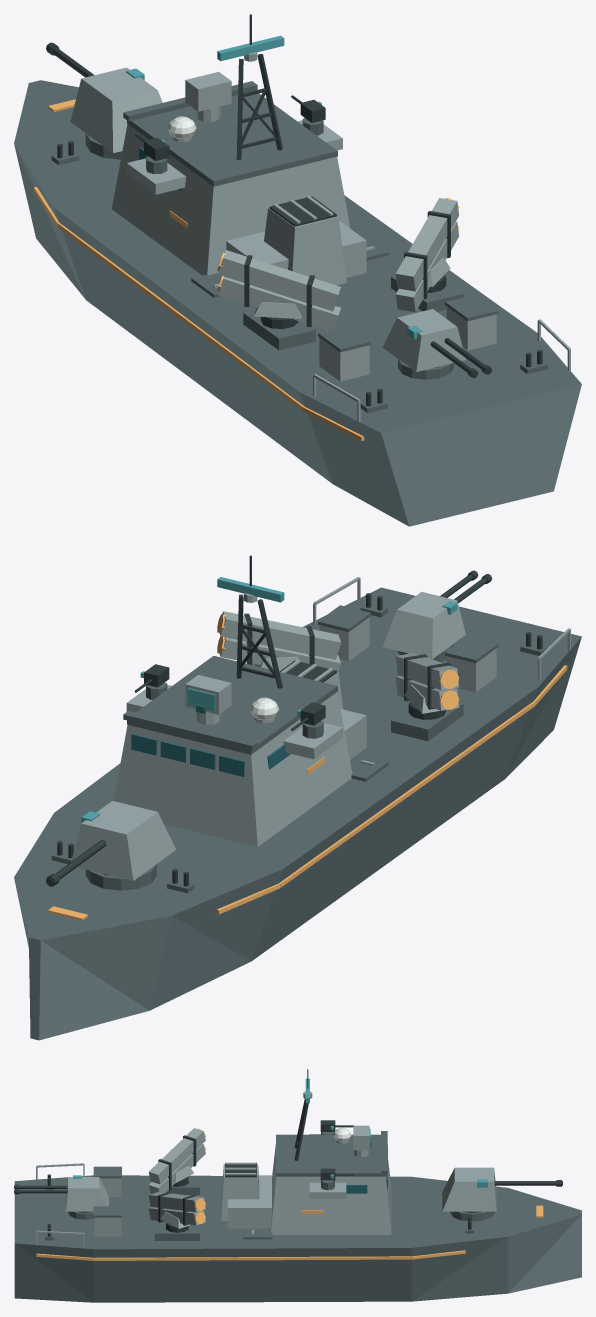
Rendered from ESC_STK_T3.fbx.
3 views of the same model, one above another, from view 1: azimuth 30°, elevation 25°; view 2: azimuth 150°, elevation 25°; view 3: azimuth 270°, elevation 25° (orthographic). The views are drawn at different scales.
Parts seen in each view (by area): view 1: ContinuousHull.015, Deckhouse.015, Roof.015, PrimaryGunCupola.015, FunnelEnclosure.015, AftGunCupola.002, MissileBankPortTube2, MissileBankStarboardTube2, AftEngineHouse, MissileBankPortTube1, RoleHullStripe-1_1, AftAmmoLocker-1 (+12 smaller); view 2: ContinuousHull.015, Deckhouse.015, Roof.015, PrimaryGunCupola.015, AftGunCupola.002, MissileBankStarboardTube2, RoleHullStripe-1_1, BridgeBrow, MissileBankPortFoundation, AftAmmoLocker-1, BridgeWing-1, MissileBankStarboardTube1 (+10 smaller); view 3: ContinuousHull.015, Deckhouse.015, Roof.015, PrimaryGunCupola.015, AftEngineHouse, AftGunCupola.002, RoleHullStripe1_1, MissileBankPortTube2, FunnelEnclosure.015, MissileBankStarboardTube2, MissileBankStarboardFoundation, AftAmmoLocker1 (+11 smaller).
Boxes of the visible parts, <box> form: ContinuousHull.015: <box>14,80,581,526</box>; Deckhouse.015: <box>111,124,350,275</box>; Roof.015: <box>127,93,337,186</box>; PrimaryGunCupola.015: <box>70,67,162,153</box>; FunnelEnclosure.015: <box>264,207,346,285</box>; AftGunCupola.002: <box>382,309,465,371</box>; MissileBankPortTube2: <box>218,250,340,311</box>; MissileBankStarboardTube2: <box>395,198,459,291</box>; AftEngineHouse: <box>226,220,366,277</box>; MissileBankPortTube1: <box>218,276,340,330</box>; RoleHullStripe-1_1: <box>57,222,304,410</box>; AftAmmoLocker-1: <box>319,337,369,381</box>; ContinuousHull.015: <box>14,587,581,1040</box>; Deckhouse.015: <box>113,692,352,846</box>; Roof.015: <box>127,655,337,754</box>; PrimaryGunCupola.015: <box>71,801,176,880</box>; AftGunCupola.002: <box>383,591,465,658</box>; MissileBankStarboardTube2: <box>219,611,340,659</box>; RoleHullStripe-1_1: <box>279,701,535,887</box>; BridgeBrow: <box>123,710,257,750</box>; MissileBankPortFoundation: <box>391,702,463,741</box>; AftAmmoLocker-1: <box>446,648,496,692</box>; BridgeWing-1: <box>283,723,342,759</box>; MissileBankStarboardTube1: <box>219,637,340,671</box>; ContinuousHull.015: <box>14,1175,581,1302</box>; Deckhouse.015: <box>270,1144,391,1234</box>; Roof.015: <box>276,1134,386,1176</box>; PrimaryGunCupola.015: <box>442,1167,496,1211</box>; AftEngineHouse: <box>227,1175,271,1228</box>; AftGunCupola.002: <box>66,1177,108,1211</box>; RoleHullStripe1_1: <box>94,1256,411,1260</box>; MissileBankPortTube2: <box>148,1128,205,1184</box>; FunnelEnclosure.015: <box>221,1164,259,1220</box>; MissileBankStarboardTube2: <box>148,1192,205,1212</box>; MissileBankStarboardFoundation: <box>154,1222,199,1240</box>; AftAmmoLocker1: <box>94,1217,121,1236</box>.
Size of the model in its own units: 281 by 362 by 901.
